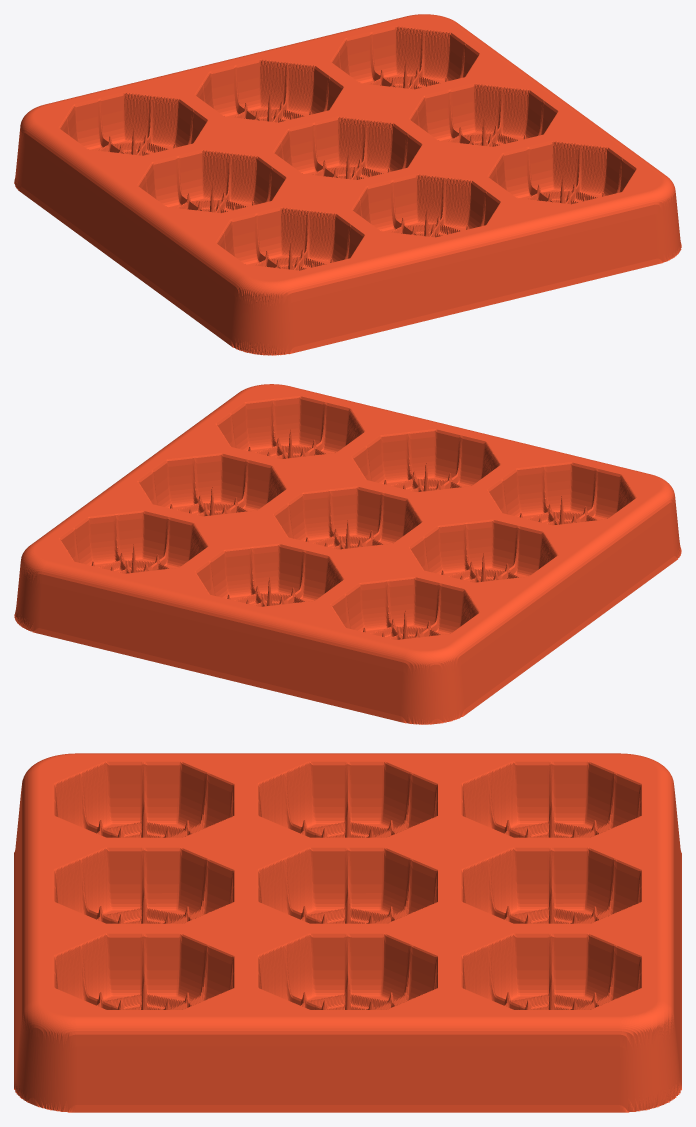
Rendered from mold.glb.
3 renders of one model, top to bottom at view 1: azimuth 30°, elevation 25°; view 2: azimuth 150°, elevation 25°; view 3: azimuth 270°, elevation 25°, orthographic. The views are drawn at different scales.
Visible parts, largest first — view 1: geometry_0; view 2: geometry_0; view 3: geometry_0.
Part boxes in pixels (x1,y1,x2,y2): geometry_0: [14, 14, 681, 355]; geometry_0: [14, 384, 681, 724]; geometry_0: [14, 753, 681, 1112].
Bounding box in the file's own units: 0.0964 × 0.0136 × 0.0964.
